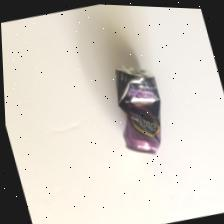metal: (91, 54, 186, 172)
